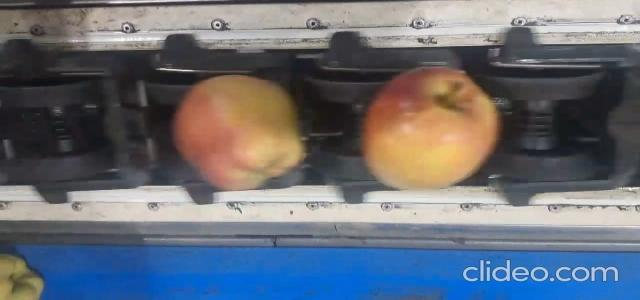apple: (362, 68, 499, 190), (174, 75, 302, 191)
